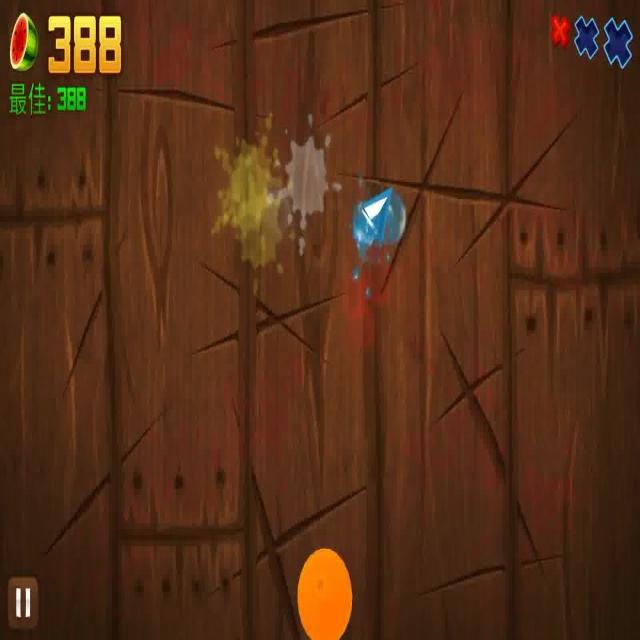fruit: (296, 548, 353, 640)
